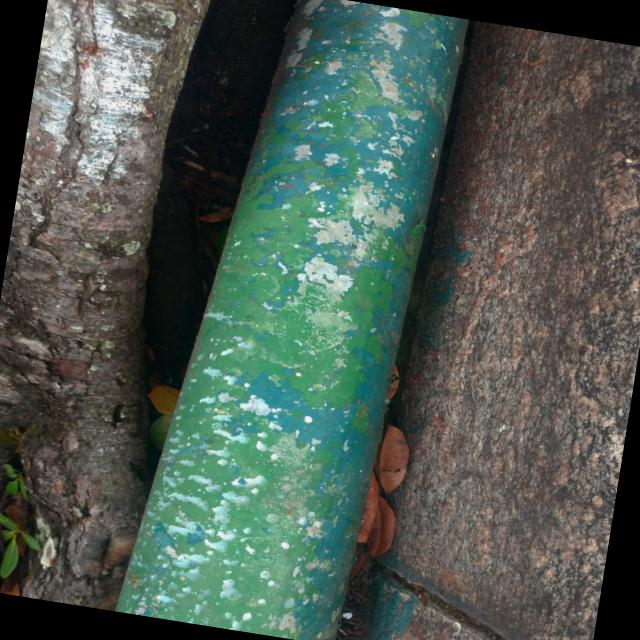gas: (113, 0, 467, 640)
